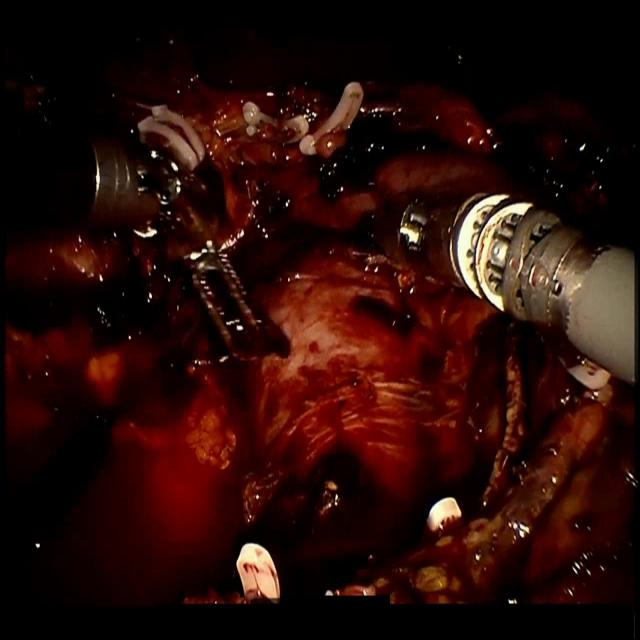surgical-area: (0, 2, 640, 604)
surgical-tool: (398, 183, 640, 382), (74, 128, 277, 358)
